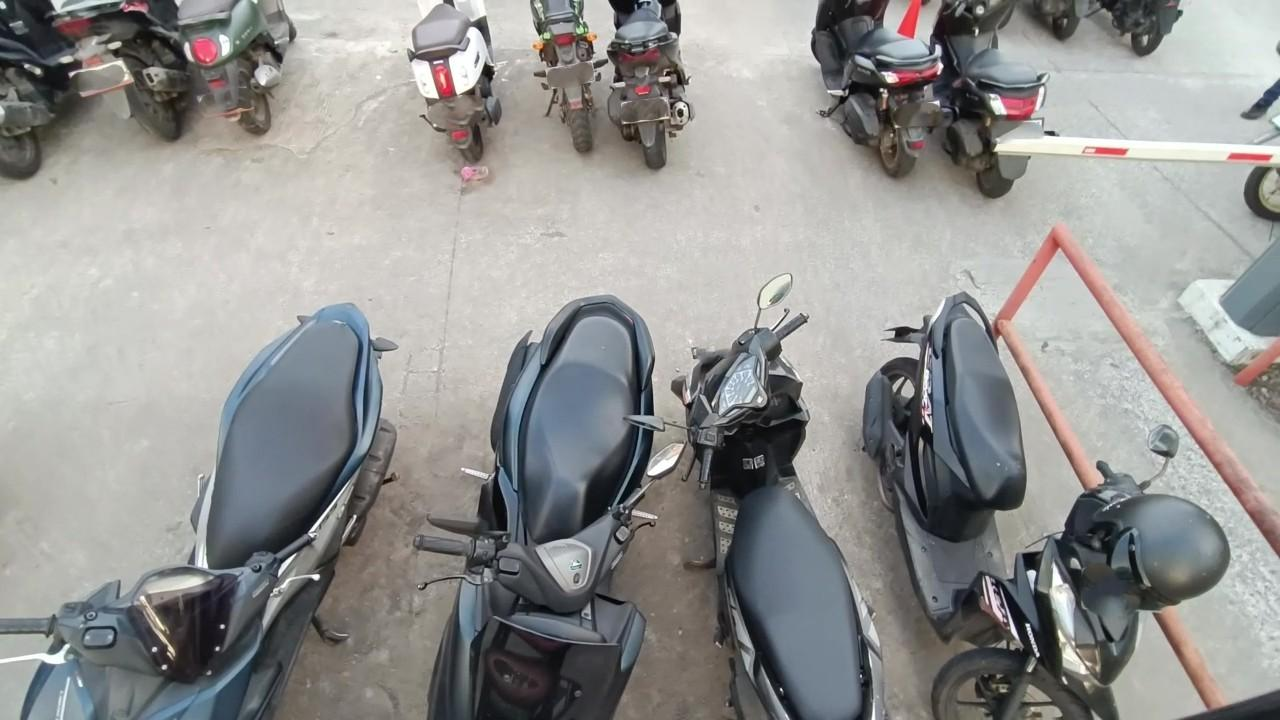motorcycle: (0, 297, 404, 720), (854, 291, 1212, 720), (413, 281, 686, 720), (627, 270, 892, 720), (791, 0, 964, 185), (929, 0, 1061, 200), (51, 0, 197, 154), (399, 0, 514, 191), (173, 0, 309, 149), (602, 0, 704, 175), (517, 0, 614, 169)
